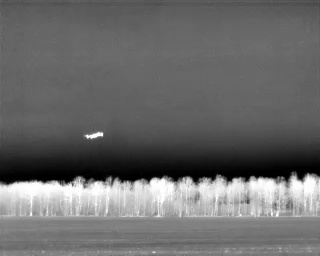DRONE: (81, 126, 108, 144)
